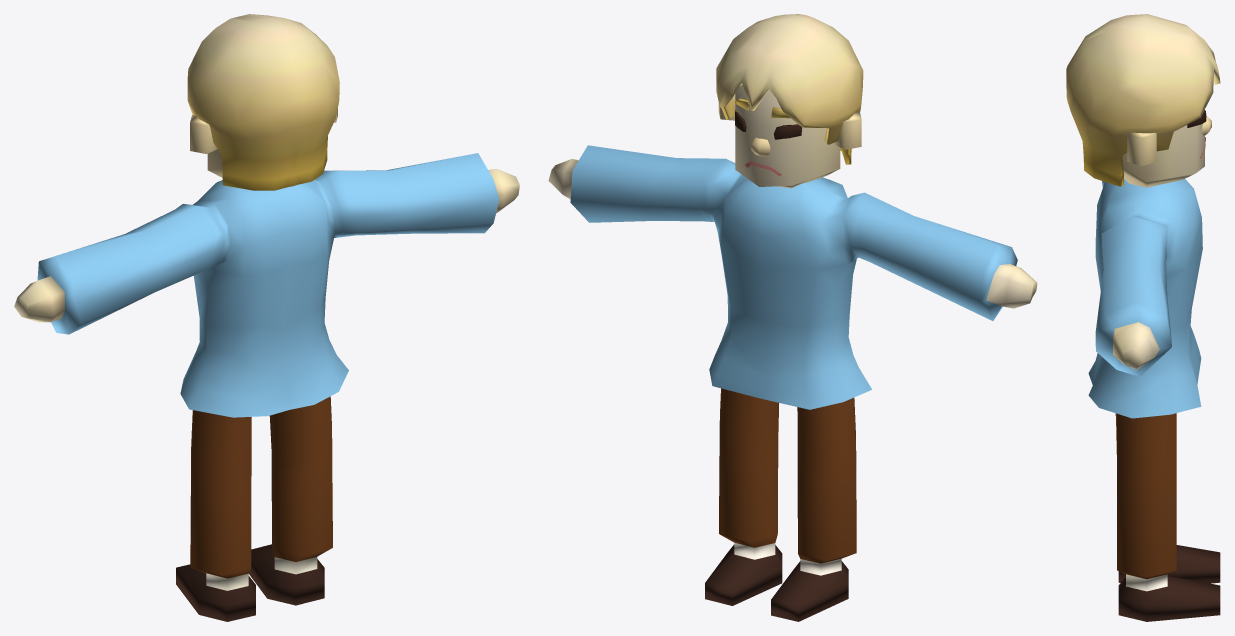
File: SM_Male.fbx
3 renders of one model, left to right at view 1: azimuth 30°, elevation 25°; view 2: azimuth 150°, elevation 25°; view 3: azimuth 270°, elevation 25°, orthographic. The views are drawn at different scales.
Parts seen in each view (by area): view 1: Male; view 2: Male; view 3: Male.
Part boxes in pixels (<box>): Male: <box>14,14,519,621</box>; Male: <box>548,14,1037,621</box>; Male: <box>1066,14,1220,621</box>.
Size of the model in its own units: 69.63 by 77.56 by 18.95.
